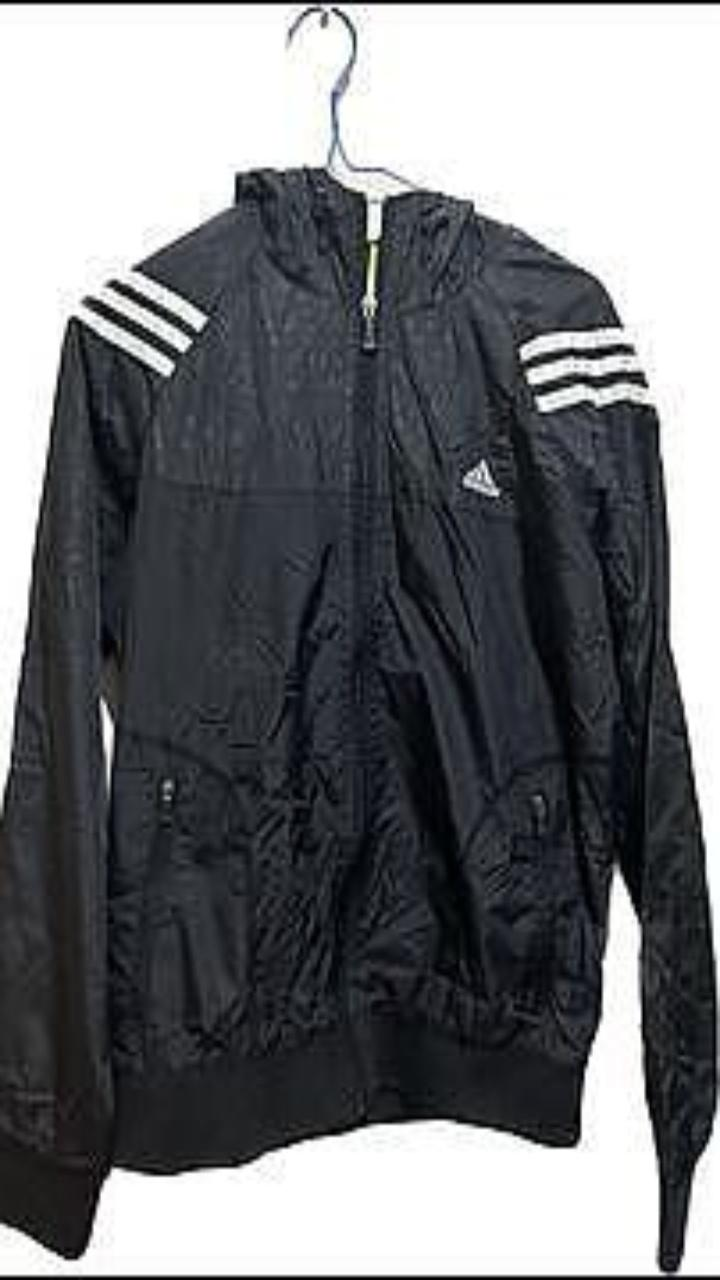Sports_Jacket: (0, 166, 716, 1270)
